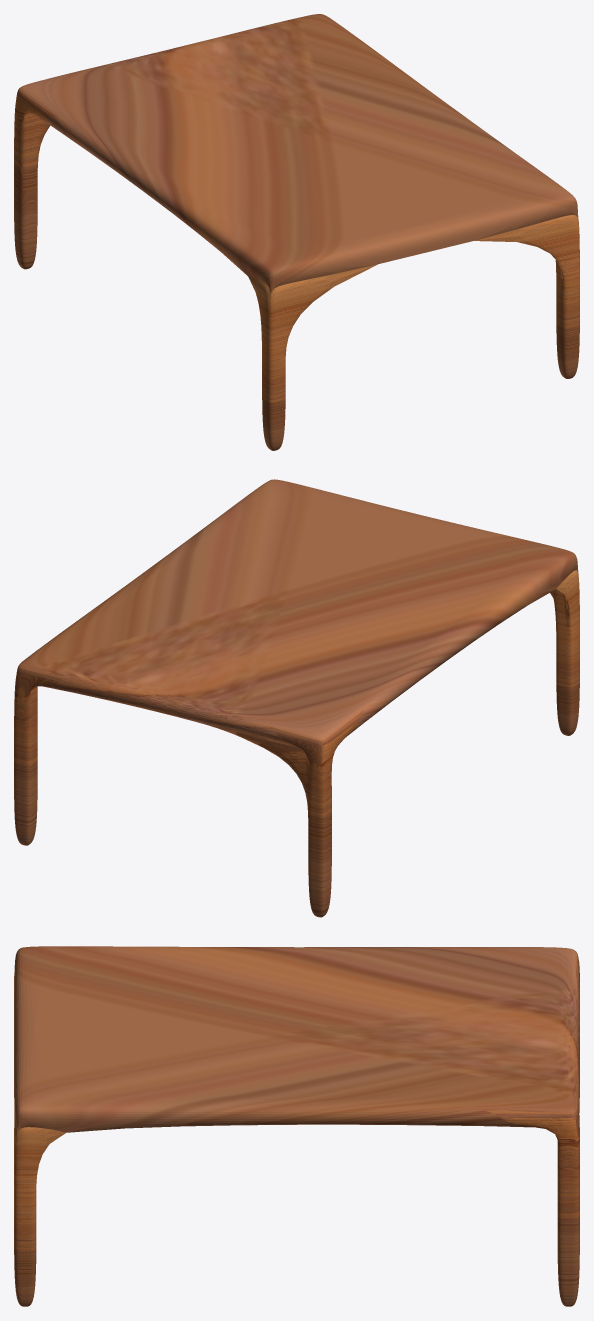
Rendered from table-thesis.fbx.
The picture shows the model from 3 angles, top to bottom: view 1: azimuth 30°, elevation 25°; view 2: azimuth 150°, elevation 25°; view 3: azimuth 270°, elevation 25°; orthographic projection. The views are drawn at different scales.
Visible parts, largest first — view 1: Table; view 2: Table; view 3: Table.
Part boxes in pixels (x1,y1,x2,y2): Table: [14, 14, 579, 450]; Table: [14, 479, 579, 917]; Table: [14, 946, 579, 1306].
Bounding box in the file's own units: 3.51 × 1.98 × 5.03.
